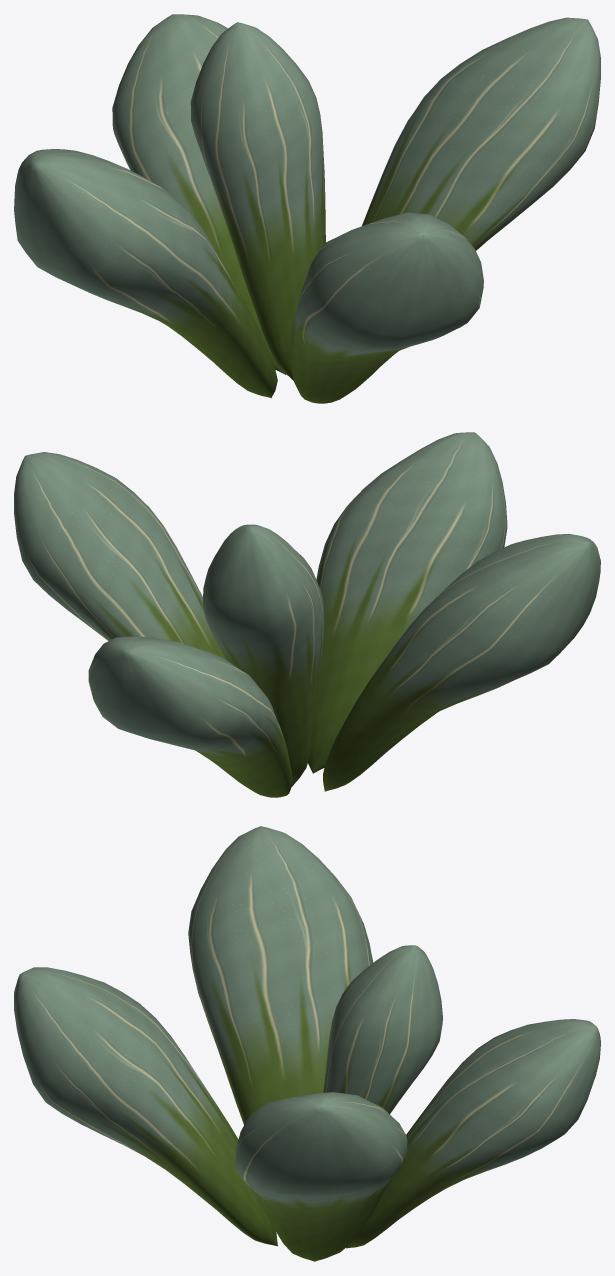
Rendered from 01-seedling.glb.
The picture shows the model from 3 angles, top to bottom: view 1: azimuth 30°, elevation 25°; view 2: azimuth 150°, elevation 25°; view 3: azimuth 270°, elevation 25°; orthographic projection. The views are drawn at different scales.
Parts seen in each view (by area): view 1: 01-seedling; view 2: 01-seedling; view 3: 01-seedling.
Boxes of the visible parts, x1,y1,x2,y2 form: 01-seedling: (14, 14, 600, 403); 01-seedling: (14, 432, 600, 797); 01-seedling: (14, 826, 600, 1261).
Size of the model in its own units: 0.1478 by 0.0775 by 0.138.
Materials: 1 (1 with a texture image).
